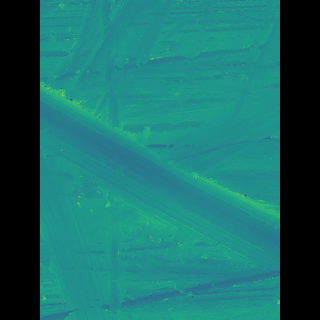Loch: (69, 78, 250, 278)
